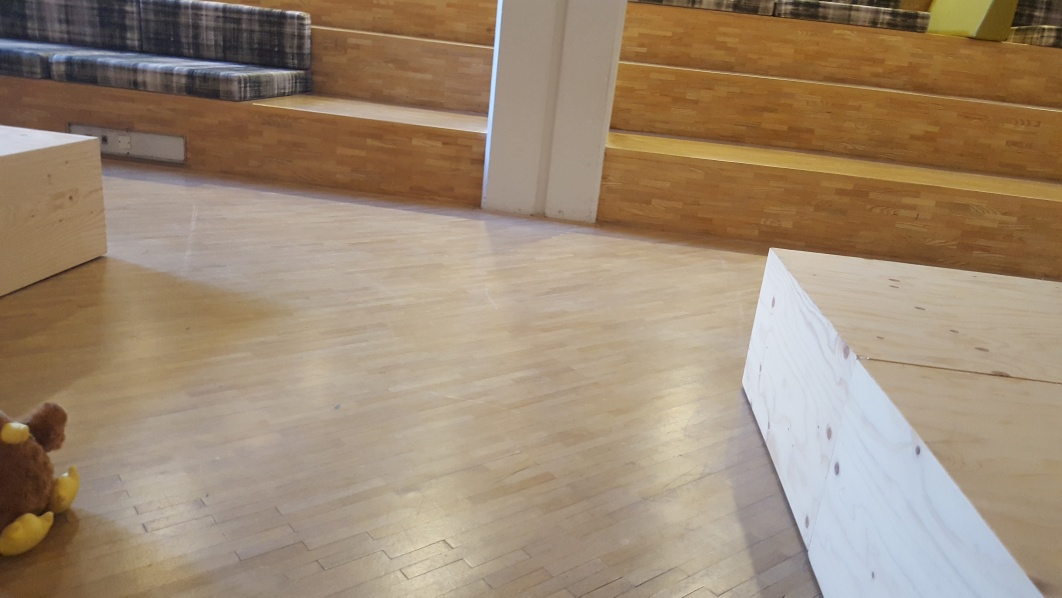chicken: (2, 399, 82, 561)
